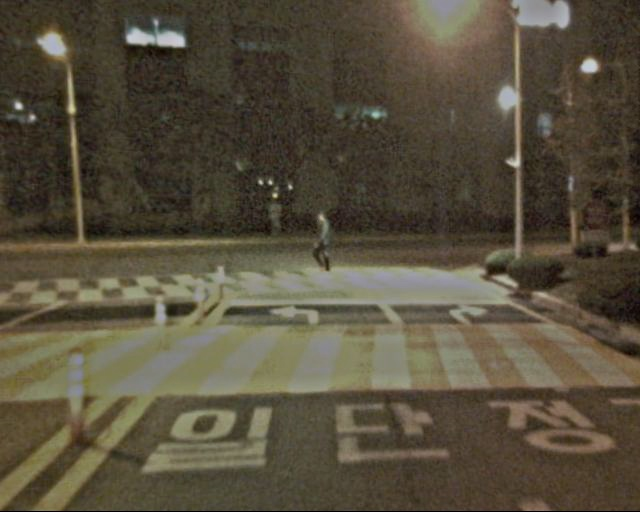person: (308, 212, 338, 284)
